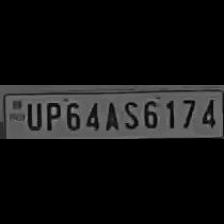1: (162, 96, 178, 130)
4: (196, 94, 218, 128), (82, 99, 100, 131)
6: (140, 96, 160, 130), (61, 99, 80, 131)
7: (177, 96, 195, 130)
A: (100, 98, 118, 132)
P: (43, 98, 61, 132)
S: (119, 97, 138, 130)
U: (22, 99, 42, 131)
